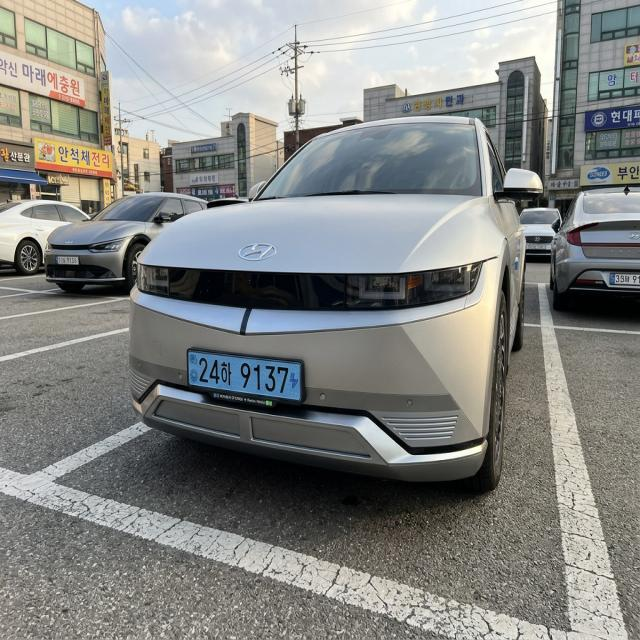car: (178, 335, 313, 415)
carev: (186, 346, 199, 391), (287, 363, 301, 401)
